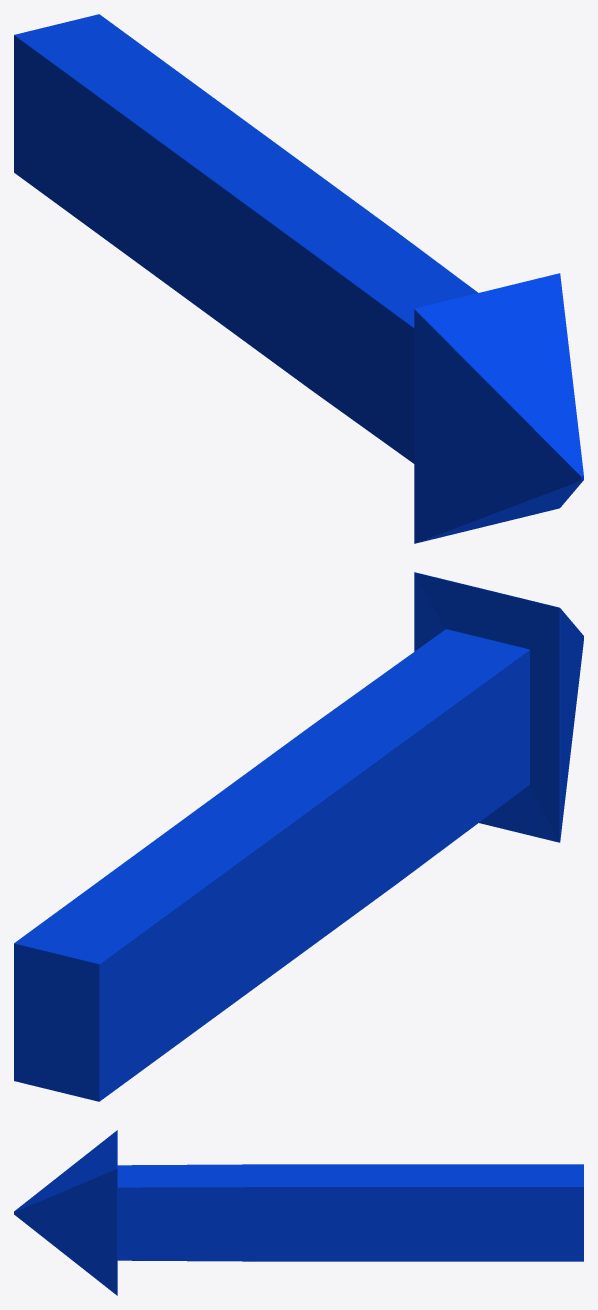
Rendered from MAGNETARROW.fbx.
3 views of the same model, one above another, from view 1: azimuth 30°, elevation 25°; view 2: azimuth 150°, elevation 25°; view 3: azimuth 270°, elevation 25° (orthographic). The views are drawn at different scales.
Parts seen in each view (by area): view 1: pCube1; view 2: pCube1; view 3: pCube1.
Part boxes in pixels (x1,y1,x2,y2): pCube1: [14, 14, 583, 543]; pCube1: [14, 572, 583, 1101]; pCube1: [14, 1130, 583, 1295].
Bounding box in the file's own units: 0.9337 × 1.44 × 5.83.
